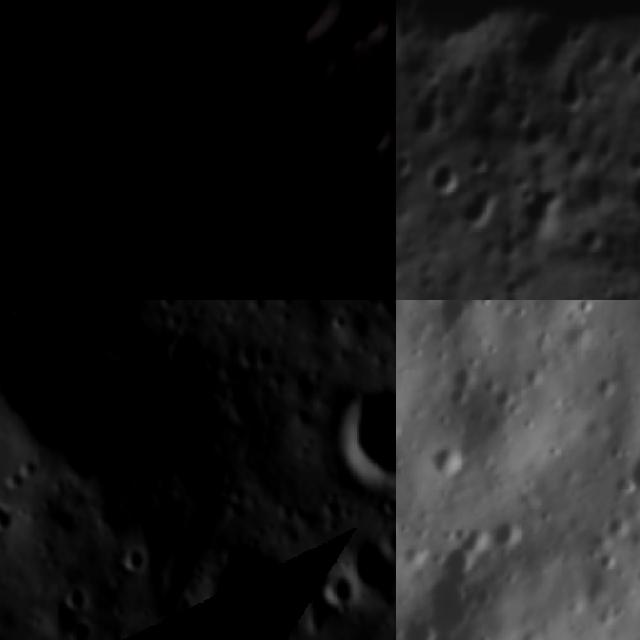crater: (0, 309, 209, 489), (192, 534, 301, 640), (325, 376, 396, 485), (444, 180, 510, 250), (326, 0, 396, 64), (424, 530, 491, 595), (340, 526, 396, 597), (411, 436, 471, 496), (162, 320, 222, 379), (412, 158, 472, 216), (543, 63, 599, 117), (561, 210, 615, 263), (346, 107, 396, 160), (479, 512, 528, 561), (222, 384, 270, 434), (420, 300, 479, 340), (611, 432, 640, 512), (314, 567, 361, 614), (52, 574, 98, 615), (546, 139, 590, 180), (112, 534, 152, 579), (396, 607, 448, 640), (619, 34, 640, 85), (625, 159, 640, 228), (64, 615, 98, 640), (622, 144, 640, 184), (0, 505, 20, 539), (1, 470, 28, 494)
